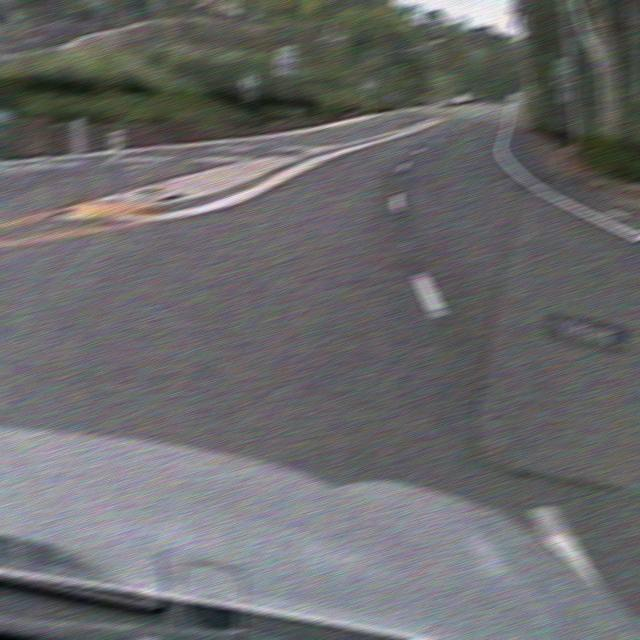speedLimit50: (551, 56, 573, 88), (274, 44, 296, 73)
